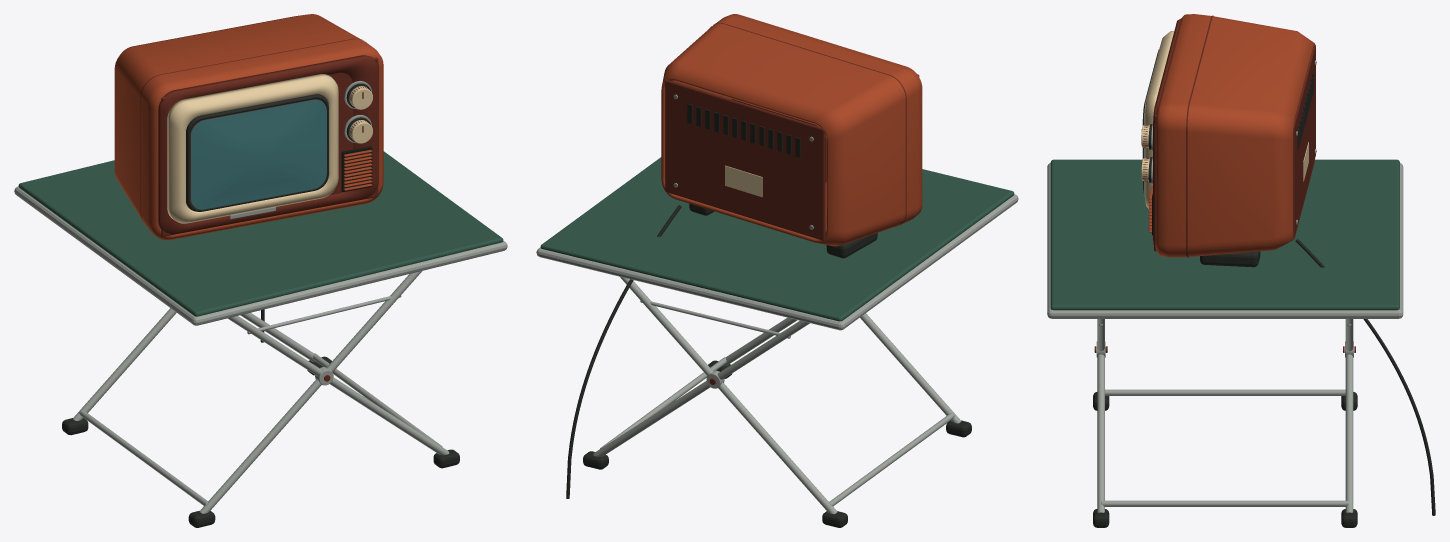
The model's file is splash-assets.fd94626321.glb.
3 views of the same model, side by side, from view 1: azimuth 30°, elevation 25°; view 2: azimuth 150°, elevation 25°; view 3: azimuth 270°, elevation 25° (orthographic). The views are drawn at different scales.
Visible parts, largest first — view 1: TABLE_TOP • inset laminate, TV_CASE • tapered hollow enclosure, CRT_SCREEN, TV_BEZEL • moulded ivory surround, TV_FRONT • fascia, TABLE_TOP • rolled steel perimeter, TABLE_LEG • crossed tube, TABLE_LEG • crossed tube.001, TV_FRONT • recessed fascia backing, CRT_GASKET • seated glass seal, TABLE_LEG • crossed tube.002, TABLE_BRACE • low cross rail (+4 smaller); view 2: TABLE_TOP • inset laminate, TV_CASE • tapered hollow enclosure, TV_REAR • inset removable panel, TABLE_TOP • rolled steel perimeter, TABLE_LEG • crossed tube.002, TABLE_LEG • crossed tube.003, POWER_CABLE • hanging lead, TABLE_LEG • crossed tube, TABLE_BRACE • low cross rail, TV_REAR • service label, TABLE_BRACE • low cross rail.001, TABLE_LEG • crossed tube.001 (+3 smaller); view 3: TABLE_TOP • inset laminate, TV_CASE • tapered hollow enclosure, TABLE_TOP • rolled steel perimeter, TV_REAR • inset removable panel, TABLE_BRACE • low cross rail.001, TABLE_BRACE • low cross rail, TABLE_LEG • crossed tube.003, TABLE_LEG • crossed tube.001, TV_BEZEL • moulded ivory surround, POWER_CABLE • hanging lead, TV_FOOT • elastomer shoe.001, TV_FRONT • fascia (+1 smaller).
Boxes of the visible parts, left/top/right/bottom form: TABLE_TOP • inset laminate: left=18, top=151, right=503, bottom=316; TV_CASE • tapered hollow enclosure: left=114, top=14, right=383, bottom=240; CRT_SCREEN: left=191, top=99, right=326, bottom=209; TV_BEZEL • moulded ivory surround: left=167, top=74, right=338, bottom=223; TV_FRONT • fascia: left=158, top=55, right=378, bottom=234; TABLE_TOP • rolled steel perimeter: left=14, top=186, right=507, bottom=325; TABLE_LEG • crossed tube: left=199, top=271, right=421, bottom=513; TABLE_LEG • crossed tube.001: left=227, top=316, right=449, bottom=455; TV_FRONT • recessed fascia backing: left=161, top=57, right=378, bottom=236; CRT_GASKET • seated glass seal: left=186, top=94, right=328, bottom=211; TABLE_LEG • crossed tube.002: left=72, top=308, right=176, bottom=420; TABLE_BRACE • low cross rail: left=79, top=410, right=207, bottom=505; TABLE_TOP • inset laminate: left=540, top=157, right=1014, bottom=321; TV_CASE • tapered hollow enclosure: left=661, top=14, right=922, bottom=246; TV_REAR • inset removable panel: left=665, top=80, right=825, bottom=240; TABLE_TOP • rolled steel perimeter: left=536, top=194, right=1018, bottom=330; TABLE_LEG • crossed tube.002: left=620, top=277, right=837, bottom=513; TABLE_LEG • crossed tube.003: left=593, top=320, right=809, bottom=456; POWER_CABLE • hanging lead: left=566, top=205, right=681, bottom=498; TABLE_LEG • crossed tube: left=860, top=313, right=961, bottom=423; TABLE_BRACE • low cross rail: left=829, top=412, right=954, bottom=506; TV_REAR • service label: left=725, top=165, right=762, bottom=197; TABLE_BRACE • low cross rail.001: left=600, top=357, right=726, bottom=448; TABLE_LEG • crossed tube.001: left=723, top=317, right=797, bottom=366; TABLE_TOP • inset laminate: left=1050, top=159, right=1399, bottom=310; TV_CASE • tapered hollow enclosure: left=1155, top=14, right=1314, bottom=257; TABLE_TOP • rolled steel perimeter: left=1047, top=163, right=1403, bottom=318; TV_REAR • inset removable panel: left=1293, top=44, right=1315, bottom=238; TABLE_BRACE • low cross rail.001: left=1101, top=500, right=1349, bottom=506; TABLE_BRACE • low cross rail: left=1105, top=389, right=1345, bottom=395; TABLE_LEG • crossed tube.003: left=1345, top=354, right=1353, bottom=512; TABLE_LEG • crossed tube.001: left=1097, top=354, right=1104, bottom=512; TV_BEZEL • moulded ivory surround: left=1144, top=31, right=1174, bottom=208; POWER_CABLE • hanging lead: left=1295, top=239, right=1435, bottom=515; TV_FOOT • elastomer shoe.001: left=1200, top=251, right=1260, bottom=267; TV_FRONT • fascia: left=1153, top=18, right=1181, bottom=244.
Size of the model in its own units: 3.5 by 4.3 by 3.82.
